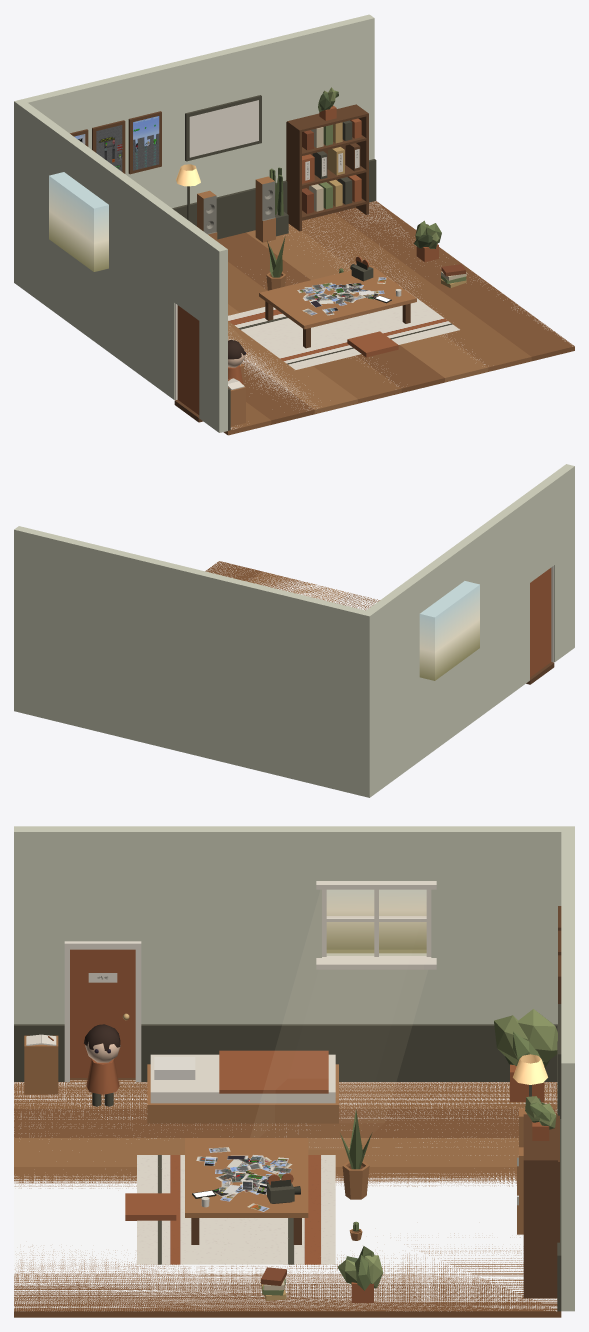
Rendered from dname.glb.
3 views of the same model, one above another, from view 1: azimuth 30°, elevation 25°; view 2: azimuth 150°, elevation 25°; view 3: azimuth 270°, elevation 25° (orthographic). The views are drawn at different scales.
Parts seen in each view (by area): view 1: object 10, object 15, item0-shelf, object 12, object 8, object 58, object 7, object 18, object 6, object 5, object 59, object 3 (+23 smaller); view 2: object 10, object 15, object 12, object 18, object 13, object 27, object 16, object 36, object 14, object 9, object 29, object 30 (+3 smaller); view 3: object 9, object 15, object 12, object 8, object 17, item1-bed, object 58, object 2, object 18, object 3, object 16, object 1 (+26 smaller).
Boxes of the visible parts, x1,y1,x2,y2 form: object 10: (14,14,374,285); object 15: (106,167,182,399); item0-shelf: (286,87,368,231); object 12: (19,103,74,320); object 8: (335,201,574,361); object 58: (228,277,459,369); object 7: (302,213,531,371); object 18: (199,235,227,432); object 6: (246,224,488,382); object 5: (217,232,444,392); object 59: (259,265,416,329); object 3: (228,304,357,414); object 10: (14,526,374,797); object 15: (454,497,529,729); object 12: (366,576,422,793); object 18: (547,464,574,662); object 13: (422,661,462,758); object 27: (435,585,479,680); object 16: (521,478,554,582); object 36: (530,568,551,677); object 14: (414,546,462,611); object 9: (207,561,379,610); object 29: (419,614,434,680); object 30: (420,581,479,617); object 9: (14,1080,557,1311); object 15: (137,826,321,1024); object 12: (431,826,561,1024); object 8: (14,1282,561,1317); object 17: (141,1024,557,1081); item1-bed: (147,1050,338,1123); object 58: (137,1155,335,1264); object 2: (14,1109,557,1137); object 18: (14,826,68,1024); object 3: (14,1138,518,1166); object 16: (68,826,136,941); object 1: (14,1080,557,1108).
Size of what is drawn, in the model's own units: 8.55 by 4.1 by 8.2.
Materials: 216 (106 with a texture image).
